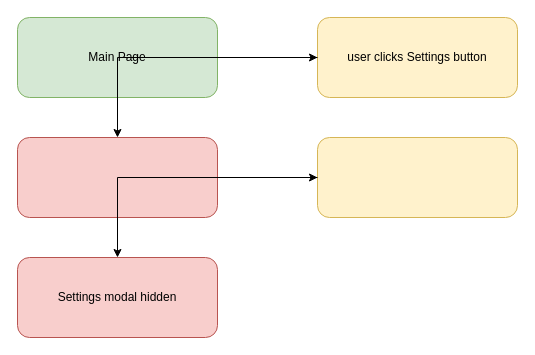
This 535x355 diagram has some shape labels left out. Each missing label, with the centre of its shape:
Settings modal shown: (117,177)
user clicks close button: (417,177)
